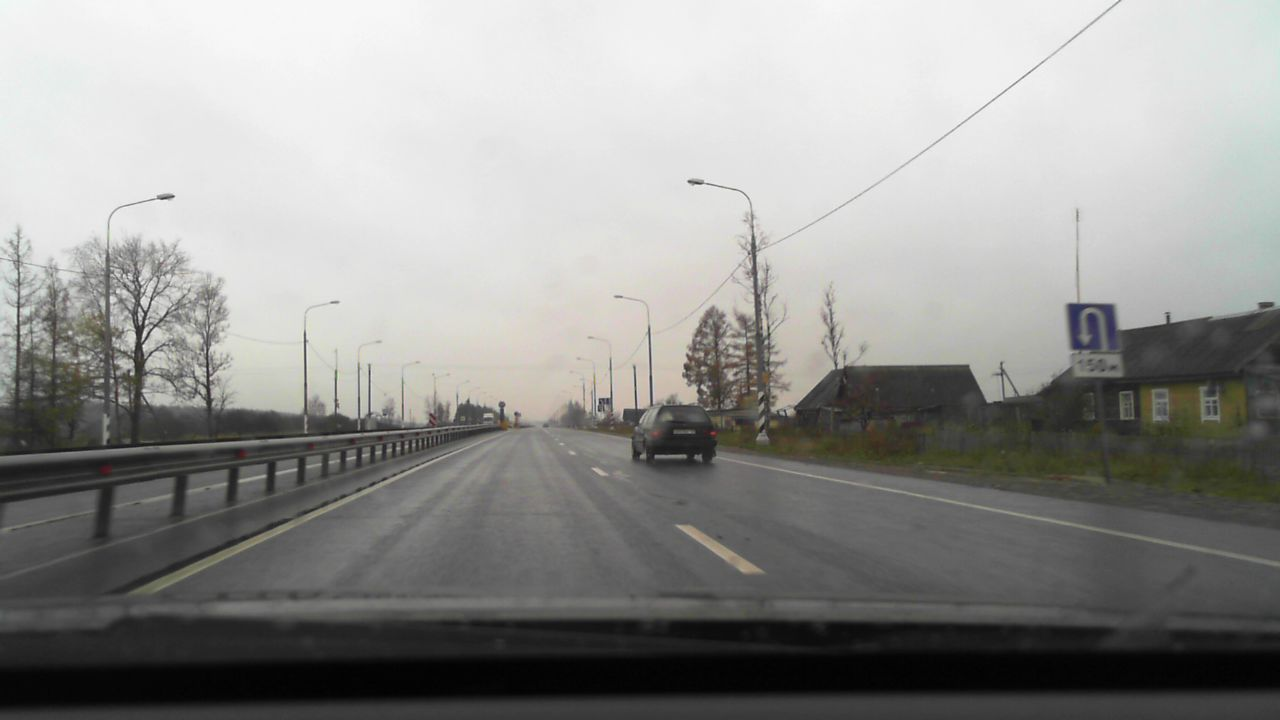U-turn: (1067, 303, 1119, 352)
